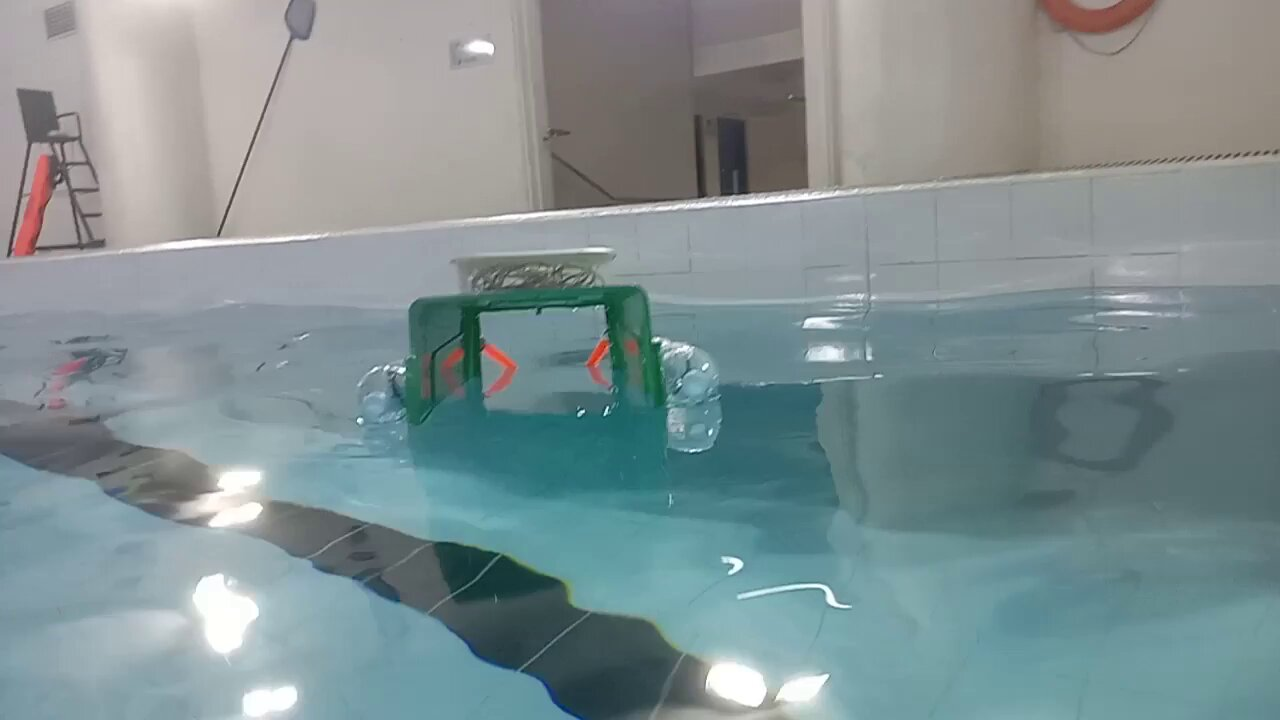drone: (354, 245, 724, 437)
